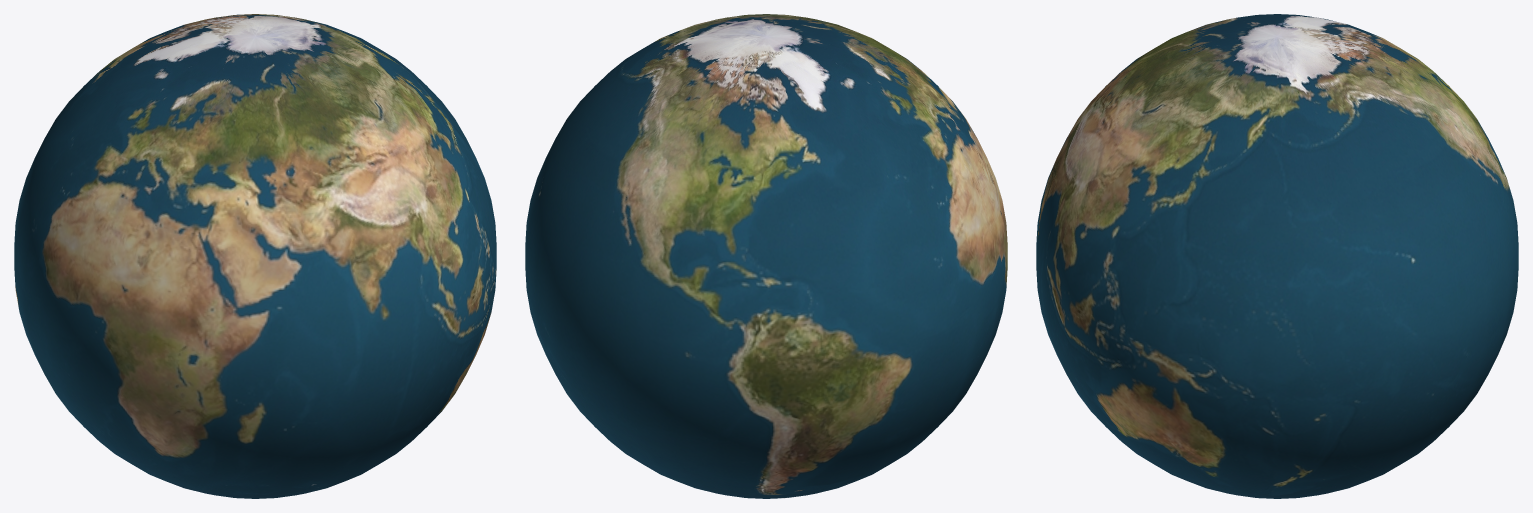
The model's file is earth.fbx.
3 renders of one model, left to right at view 1: azimuth 30°, elevation 25°; view 2: azimuth 150°, elevation 25°; view 3: azimuth 270°, elevation 25°, orthographic.
Visible parts, largest first — view 1: pSphere1; view 2: pSphere1; view 3: pSphere1.
Boxes of the visible parts, <box> form: pSphere1: <box>14,14,496,498</box>; pSphere1: <box>525,14,1007,498</box>; pSphere1: <box>1036,14,1518,498</box>.
Bounding box in the file's own units: 6.63 × 6.63 × 6.6.
1 material, 1 textured.
